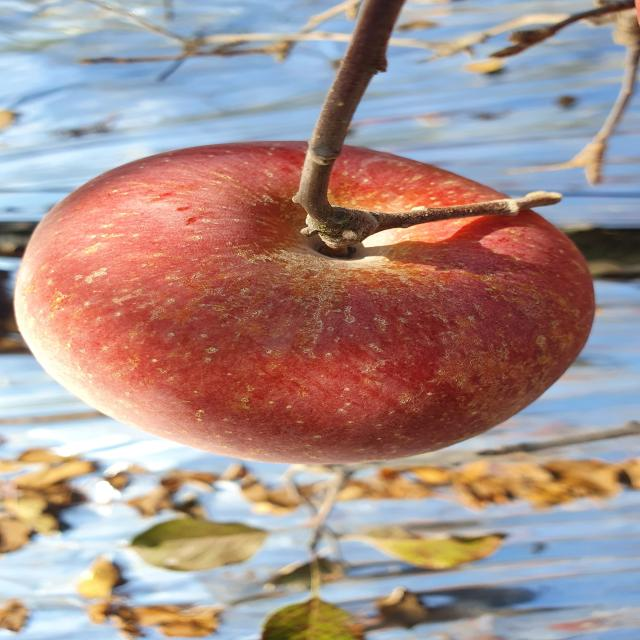fresh: (10, 133, 609, 471)
